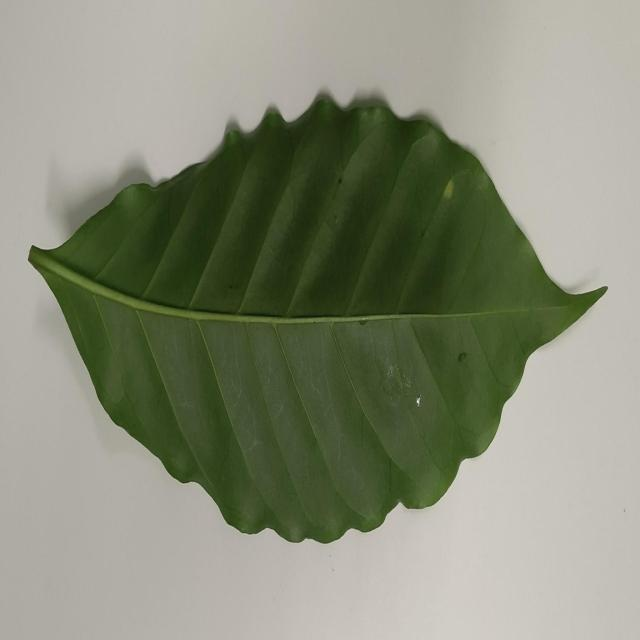Sanas: (27, 92, 608, 548)
